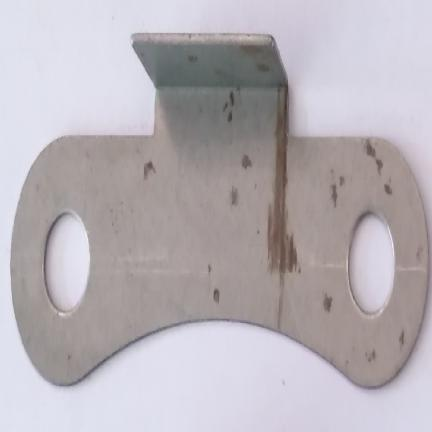karat: (265, 82, 297, 275)
